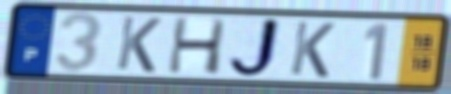1: (363, 21, 391, 81)
3: (53, 10, 108, 76)
H: (165, 15, 229, 76)
J: (225, 15, 284, 81)
K: (113, 14, 164, 75), (287, 19, 338, 80)
